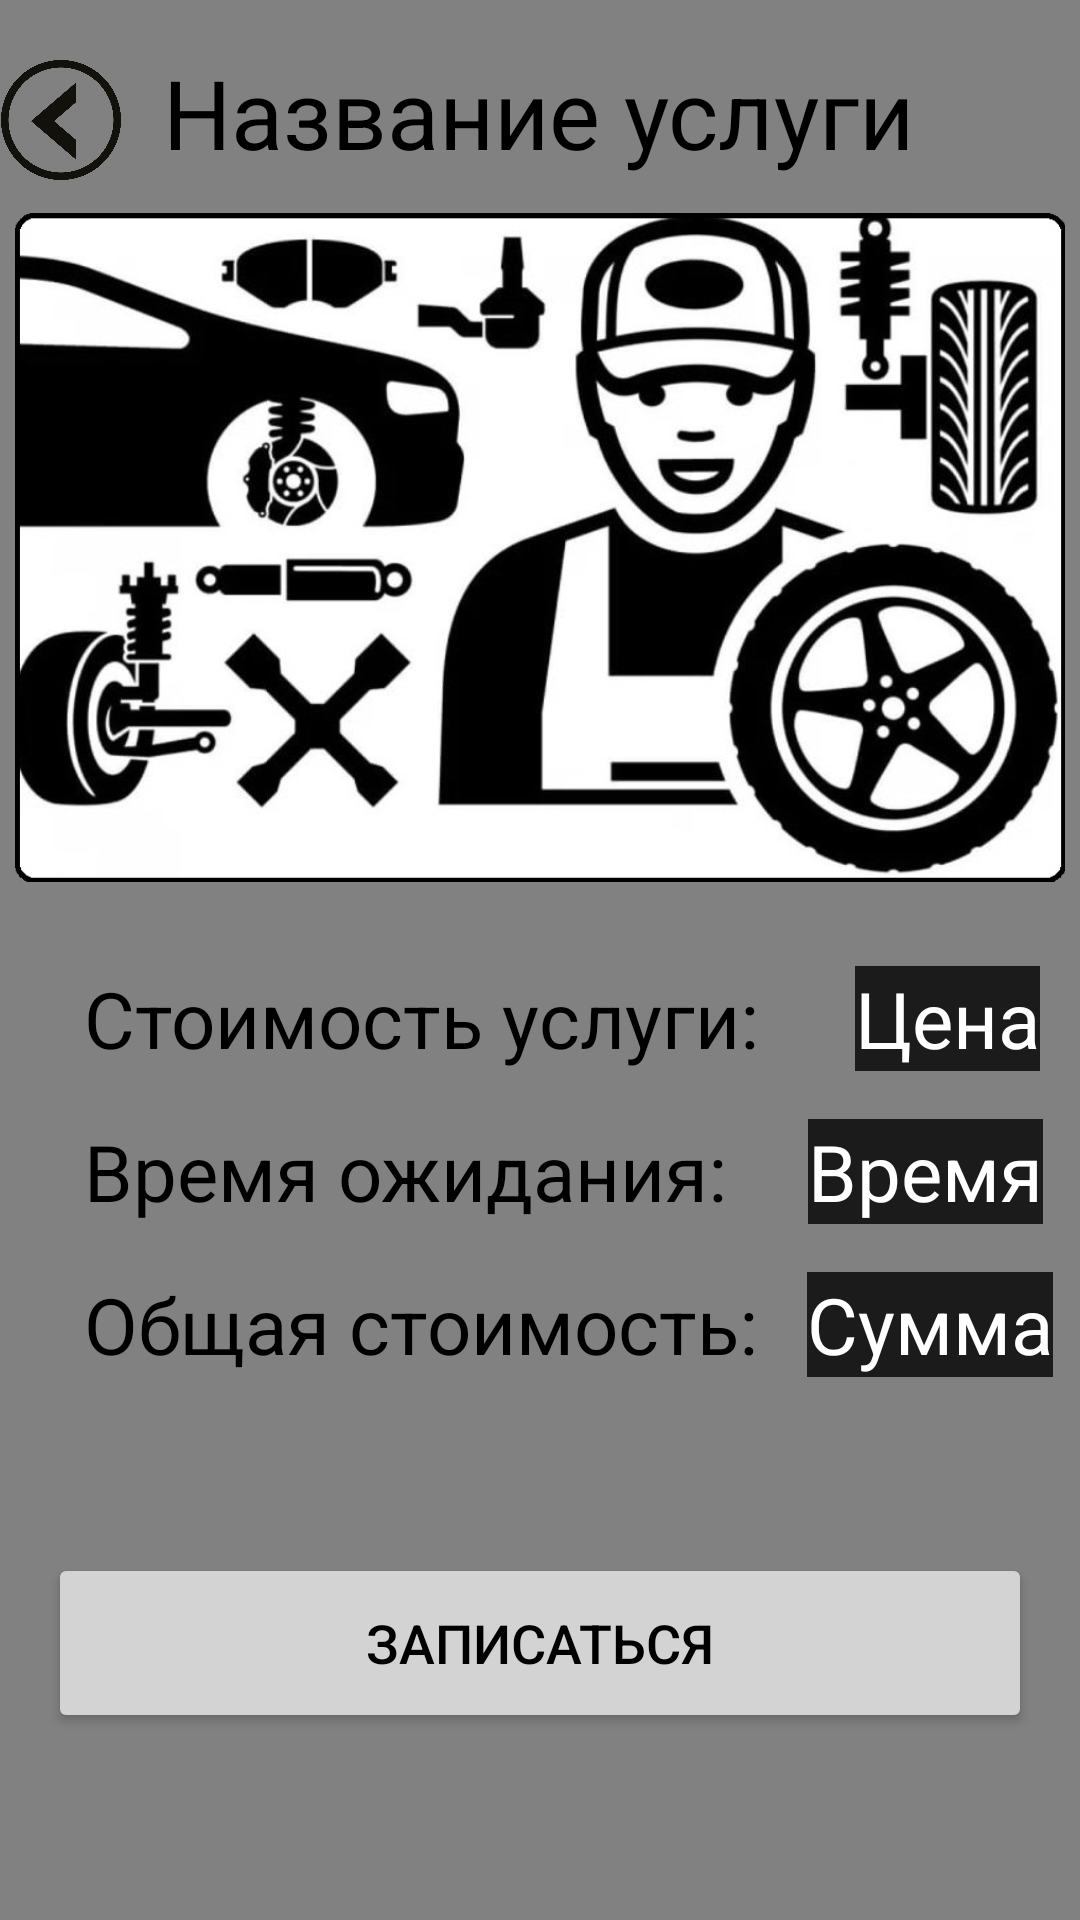

Icons on this 1080×1920 Android screen, each with the point to tap as point (x, y):
back: point (61, 120)
